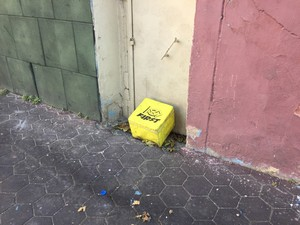cube: (126, 97, 177, 144)
